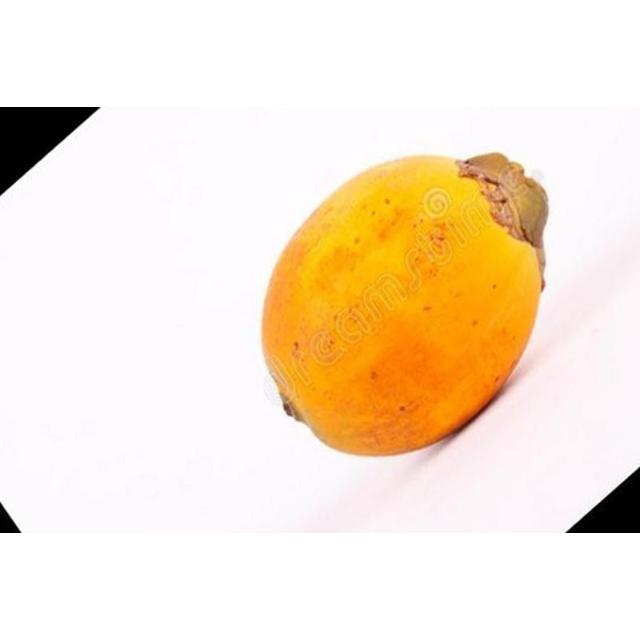good: (259, 153, 550, 460)
